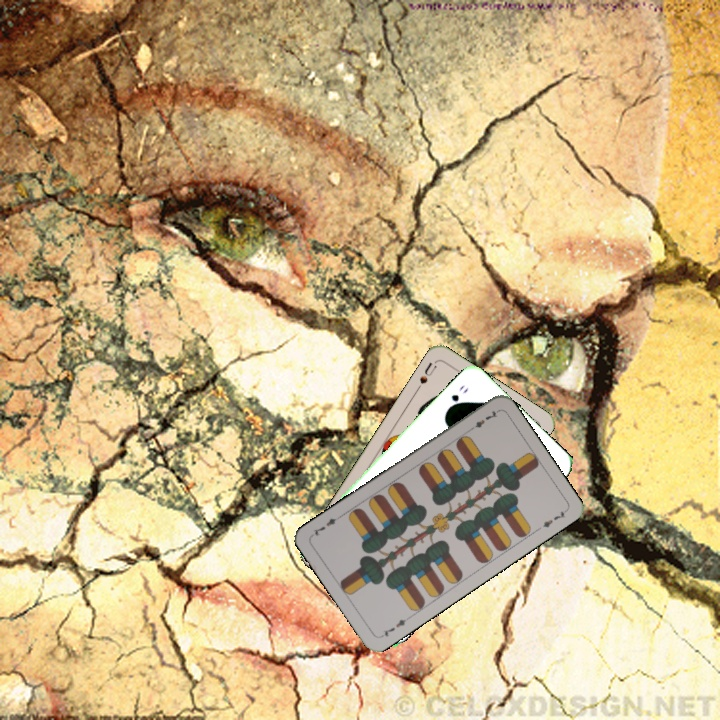E7: (465, 406, 501, 434), (377, 613, 413, 640)
GO: (444, 381, 471, 413)
SU: (412, 358, 440, 394)
